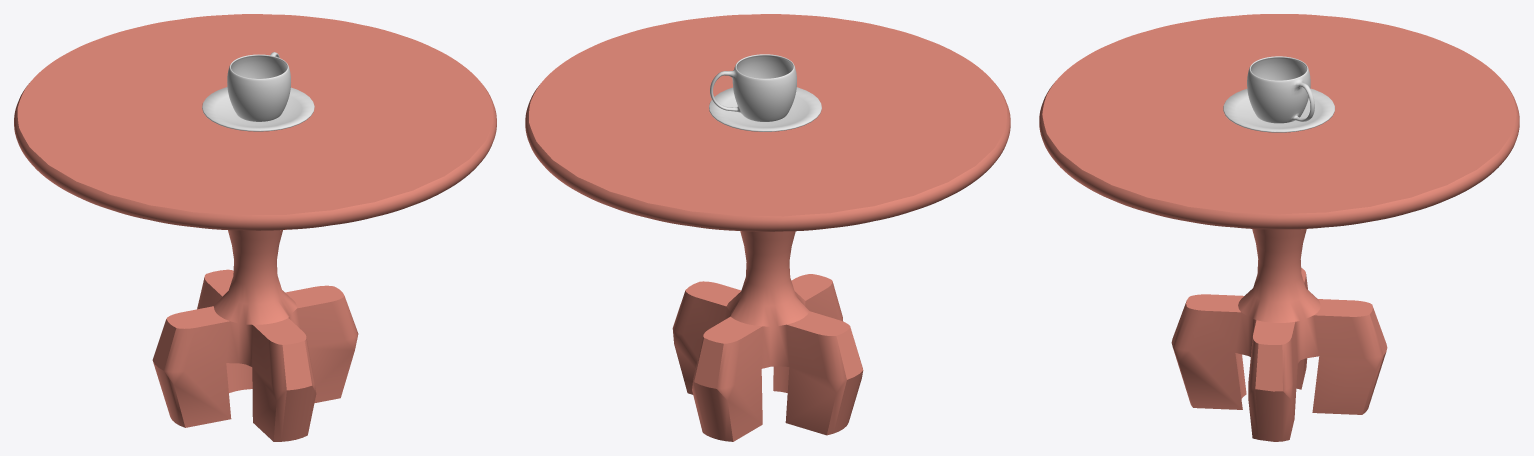
File: circular_table.glb
3 renders of one model, left to right at view 1: azimuth 30°, elevation 25°; view 2: azimuth 150°, elevation 25°; view 3: azimuth 270°, elevation 25°, orthographic.
Parts seen in each view (by area): view 1: circular_chair, teacup, plate; view 2: circular_chair, teacup, plate; view 3: circular_chair, teacup, plate.
Part boxes in pixels (left/top/right/bottom): circular_chair: left=14, top=14, right=496, bottom=441; teacup: left=227, top=52, right=290, bottom=121; plate: left=202, top=87, right=314, bottom=131; circular_chair: left=525, top=14, right=1010, bottom=441; teacup: left=710, top=54, right=796, bottom=121; plate: left=709, top=87, right=821, bottom=131; circular_chair: left=1039, top=14, right=1519, bottom=441; teacup: left=1247, top=56, right=1314, bottom=123; plate: left=1223, top=88, right=1334, bottom=132.
Size of the model in its own units: 6.08 by 4.71 by 6.08.
